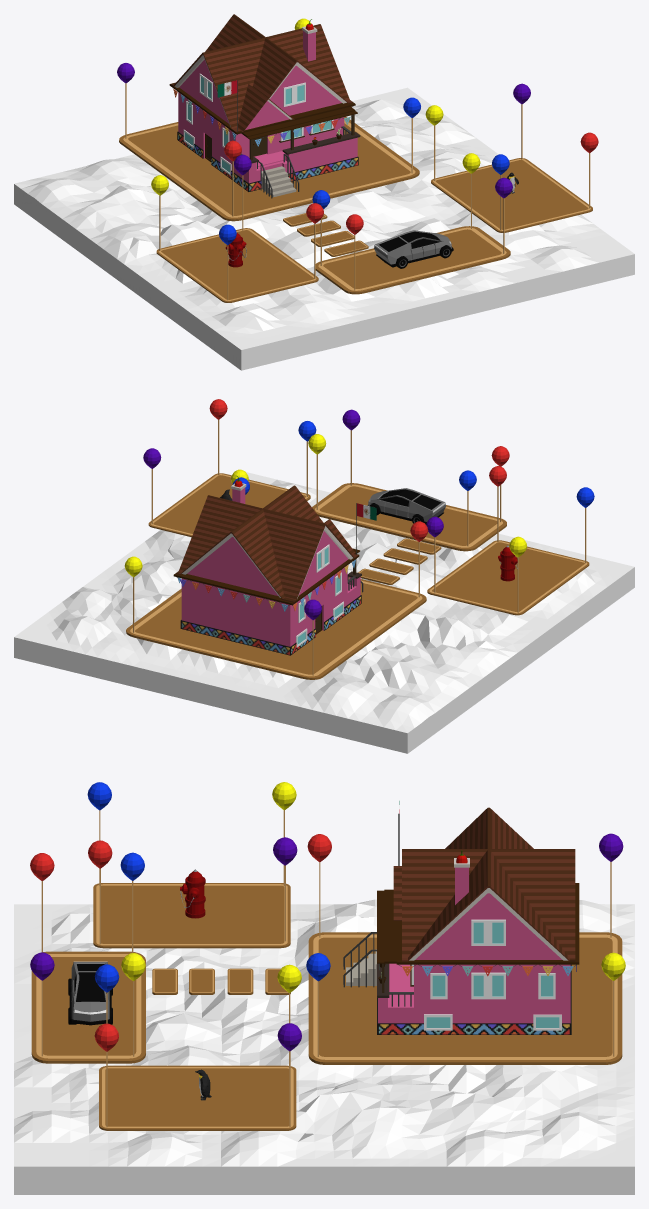
3 views of the same model, one above another, from view 1: azimuth 30°, elevation 25°; view 2: azimuth 150°, elevation 25°; view 3: azimuth 270°, elevation 25° (orthographic). The views are drawn at different scales.
Visible parts, largest first — view 1: Cube.013, Cube.1005, VEHICLES_CYBERTRUCK; view 2: Cube.013, Cube.1005, VEHICLES_CYBERTRUCK, OBJRANDOM_FIRE_HYDRANT; view 3: Cube.013, Cube.1005, VEHICLES_CYBERTRUCK, OBJRANDOM_FIRE_HYDRANT.
Part boxes in pixels (x1,y1,x2,y2): Cube.013: [14, 18, 634, 370]; Cube.1005: [169, 14, 360, 198]; VEHICLES_CYBERTRUCK: [374, 230, 453, 268]; Cube.013: [14, 399, 634, 753]; Cube.1005: [173, 476, 376, 655]; VEHICLES_CYBERTRUCK: [367, 488, 445, 524]; OBJRANDOM_FIRE_HYDRANT: [498, 545, 517, 581]; Cube.013: [14, 782, 634, 1194]; Cube.1005: [343, 801, 579, 1034]; VEHICLES_CYBERTRUCK: [68, 961, 112, 1025]; OBJRANDOM_FIRE_HYDRANT: [180, 869, 205, 918].
Bounding box in the file's own units: 4000 × 1774 × 4000.
Materials: 70 (3 with a texture image).
